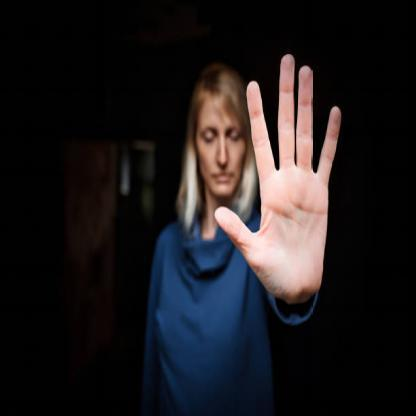stop: (211, 46, 346, 304)
